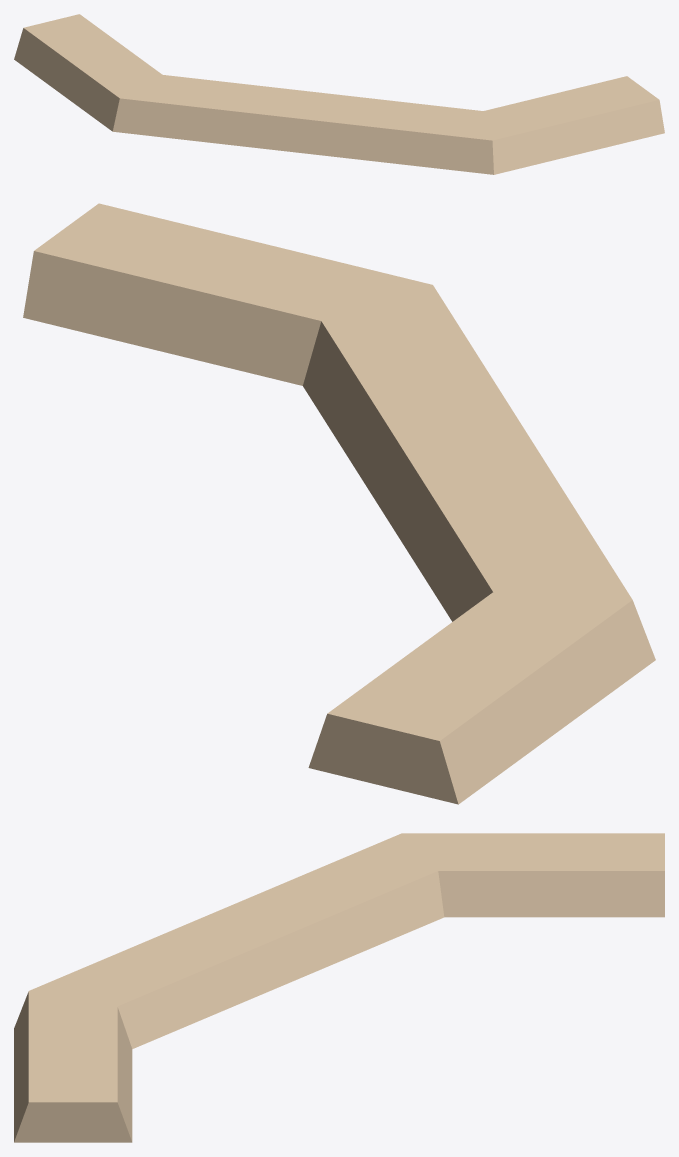
Rendered from temple_Wall_Curved_Large_Base.glb.
3 views of the same model, one above another, from view 1: azimuth 30°, elevation 25°; view 2: azimuth 150°, elevation 25°; view 3: azimuth 270°, elevation 25° (orthographic). The views are drawn at different scales.
Visible parts, largest first — view 1: object1; view 2: object1; view 3: object1.
Part boxes in pixels (x1=…): object1: x1=14, y1=14, x2=664, y2=174; object1: x1=23, y1=203, x2=655, y2=804; object1: x1=14, y1=833, x2=664, y2=1142.
Size of the model in its own units: 2.2 by 0.15 by 2.2.
